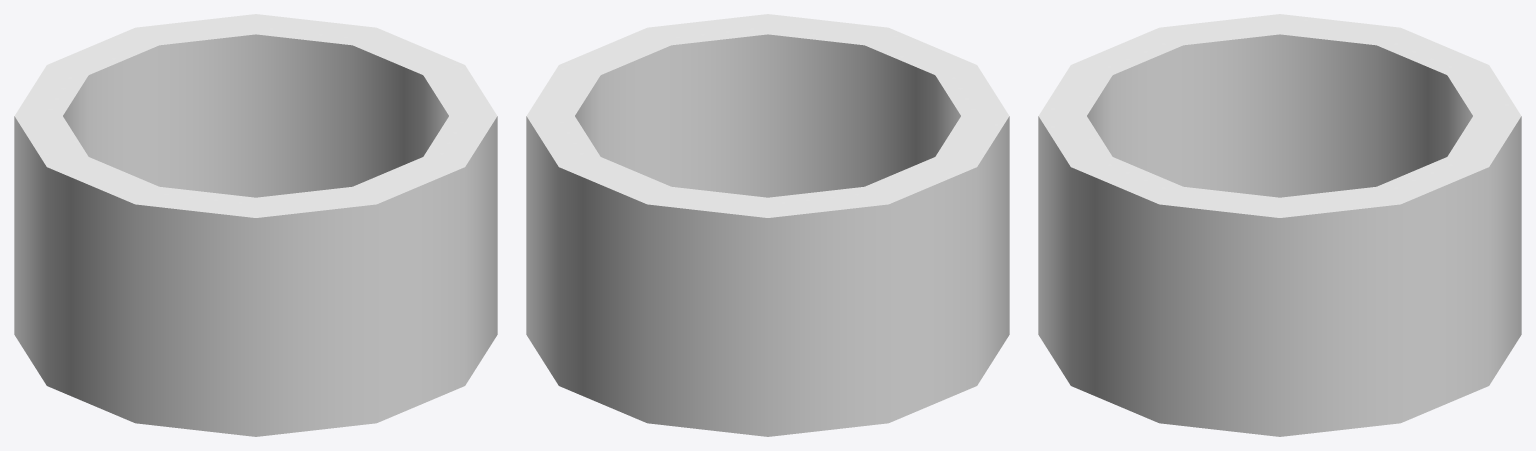
The model's file is Pipe.fbx.
The picture shows the model from 3 angles, left to right: view 1: azimuth 30°, elevation 25°; view 2: azimuth 150°, elevation 25°; view 3: azimuth 270°, elevation 25°; orthographic projection.
Parts seen in each view (by area): view 1: pPipe1; view 2: pPipe1; view 3: pPipe1.
Boxes of the visible parts, bbox=[...] form: pPipe1: bbox=[14, 14, 497, 436]; pPipe1: bbox=[526, 14, 1009, 436]; pPipe1: bbox=[1038, 14, 1521, 436].
Size of the model in its own units: 2 by 1 by 2.
1 material, 1 textured.
